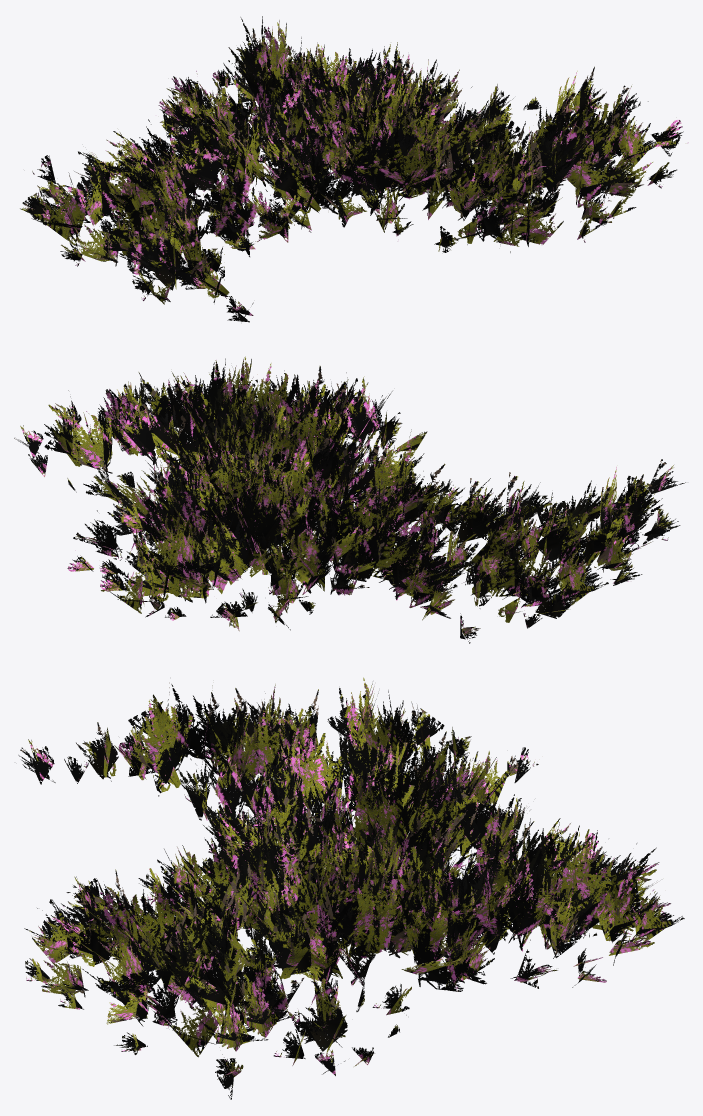
File: heather_clump_02_LOD1.fbx
3 views of the same model, one above another, from view 1: azimuth 30°, elevation 25°; view 2: azimuth 150°, elevation 25°; view 3: azimuth 270°, elevation 25° (orthographic). The views are drawn at different scales.
Visible parts, largest first — view 1: heather_clump_02_LOD1; view 2: heather_clump_02_LOD1; view 3: heather_clump_02_LOD1.
Boxes of the visible parts, box(x1,y1,x2,y2) form: heather_clump_02_LOD1: box(20, 16, 688, 322); heather_clump_02_LOD1: box(14, 356, 685, 643); heather_clump_02_LOD1: box(18, 677, 684, 1099).
Size of the model in its own units: 1384 by 226 by 1077.
